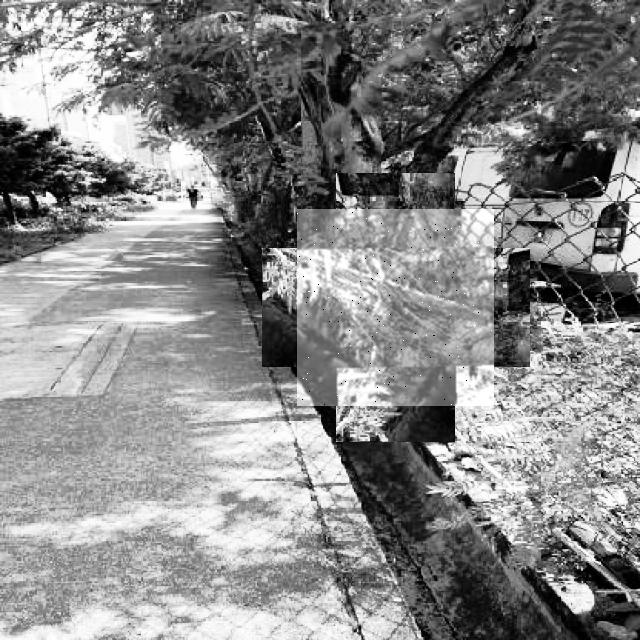anomaly-fence: (297, 209, 494, 406)
